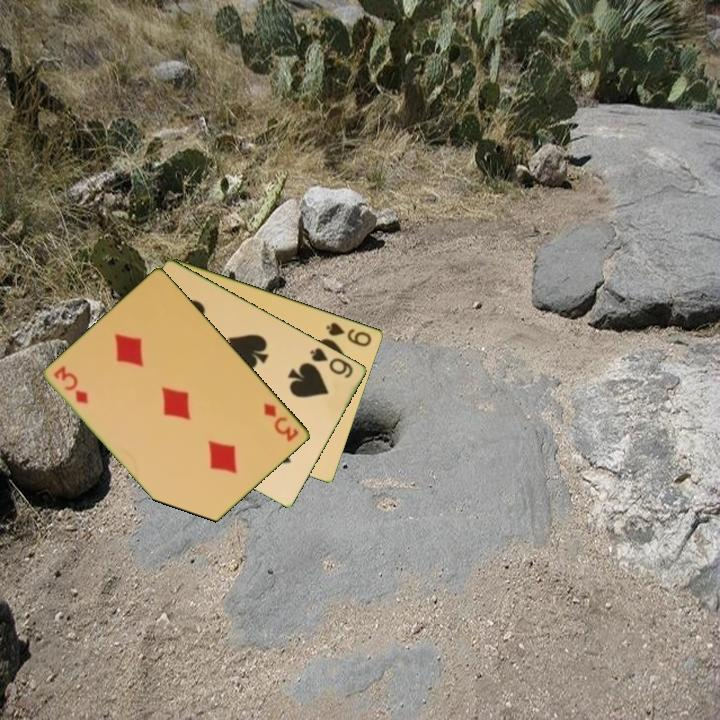3d: (260, 399, 302, 445), (51, 362, 92, 407)
6s: (307, 344, 357, 381)
9s: (323, 319, 375, 349)
